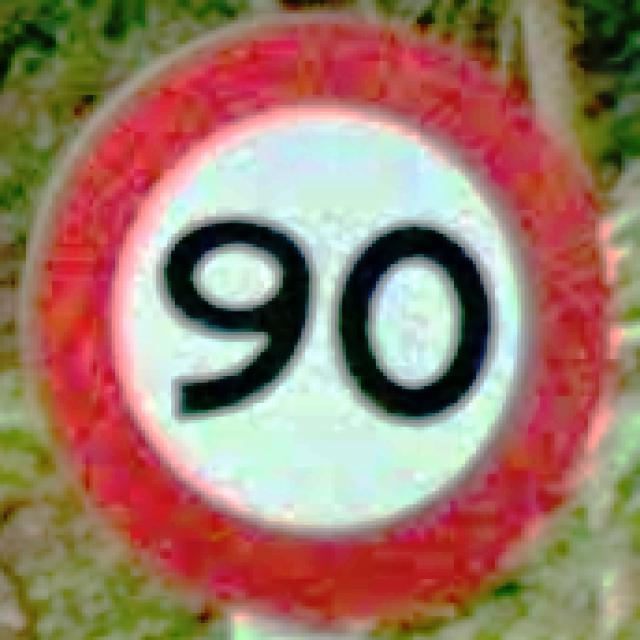max90: (15, 7, 625, 630)
